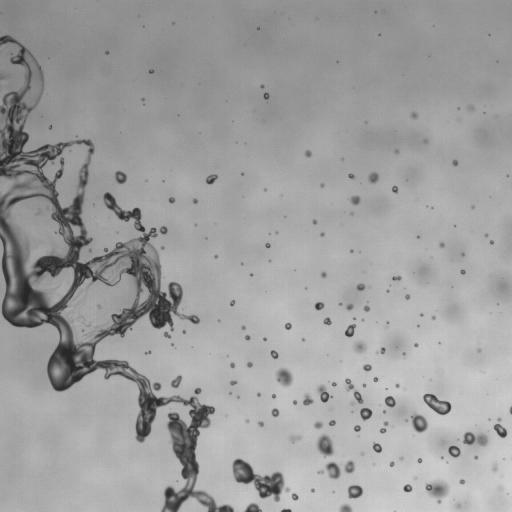droplet: (425, 480, 449, 503), (316, 434, 334, 456), (275, 368, 293, 387), (411, 412, 428, 432), (316, 384, 331, 402), (325, 461, 340, 479), (347, 485, 363, 498), (115, 170, 127, 183), (353, 341, 366, 353), (360, 408, 372, 420), (448, 445, 460, 457), (345, 324, 355, 337), (171, 375, 181, 388), (344, 460, 354, 473), (384, 396, 395, 407), (303, 393, 313, 405), (368, 172, 378, 183), (206, 174, 217, 184), (339, 504, 352, 511), (350, 196, 360, 205), (373, 442, 381, 452), (356, 283, 365, 291), (315, 302, 324, 310), (271, 408, 279, 417), (403, 484, 412, 492), (290, 436, 301, 442), (323, 317, 331, 325), (270, 350, 278, 358), (0, 73, 8, 80), (377, 347, 385, 354), (363, 364, 371, 371), (314, 421, 322, 428), (36, 208, 43, 215), (291, 493, 298, 500), (411, 112, 417, 119), (305, 150, 311, 157), (346, 304, 353, 310), (285, 322, 291, 329), (492, 463, 497, 471), (263, 93, 269, 99), (348, 173, 354, 179), (168, 197, 174, 203), (164, 332, 170, 338), (354, 425, 360, 431), (392, 186, 397, 193), (392, 276, 400, 280), (452, 160, 457, 166), (364, 305, 369, 311), (230, 380, 236, 385), (258, 421, 263, 427), (329, 420, 335, 425), (468, 105, 473, 110), (439, 242, 444, 247), (460, 269, 465, 274), (321, 272, 326, 277), (405, 294, 410, 299), (245, 335, 250, 340), (247, 362, 252, 367), (389, 461, 394, 466), (459, 479, 464, 484), (230, 300, 234, 306), (317, 470, 323, 474), (149, 69, 154, 73), (312, 220, 317, 224), (265, 243, 270, 247), (97, 304, 101, 309), (230, 362, 234, 367), (331, 382, 336, 386), (6, 84, 10, 88), (260, 84, 264, 88), (320, 183, 324, 187), (193, 199, 197, 203), (320, 232, 324, 236), (241, 325, 245, 329), (414, 343, 418, 347), (477, 348, 481, 352), (373, 377, 377, 381), (293, 400, 297, 404), (417, 458, 421, 462), (310, 488, 314, 492), (456, 504, 460, 508), (146, 351, 151, 354), (490, 240, 493, 244), (214, 255, 218, 258), (431, 316, 435, 319), (395, 384, 399, 387), (395, 150, 398, 153), (182, 330, 185, 333), (272, 394, 275, 397), (400, 456, 403, 459), (474, 456, 477, 459), (106, 51, 108, 54), (424, 140, 427, 142), (484, 234, 487, 236), (461, 253, 464, 255), (250, 273, 252, 276), (263, 338, 266, 340), (302, 338, 304, 341), (257, 393, 260, 395), (383, 410, 385, 413), (246, 419, 248, 422), (499, 487, 502, 489), (49, 126, 51, 128), (471, 206, 473, 208), (161, 247, 163, 249), (363, 384, 365, 386)
ligament: (0, 36, 235, 511), (232, 458, 289, 501), (423, 393, 451, 415), (344, 378, 363, 403), (463, 432, 487, 445), (493, 417, 507, 438), (244, 503, 262, 511), (380, 421, 388, 433), (281, 508, 291, 511), (509, 407, 511, 413)
